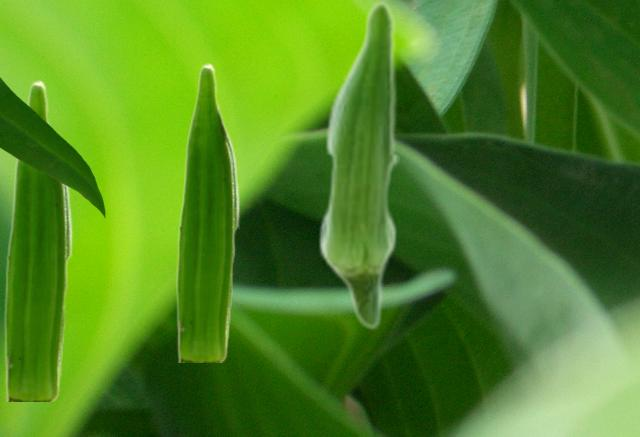okra: (317, 0, 398, 330), (4, 79, 72, 400), (176, 62, 239, 361)
